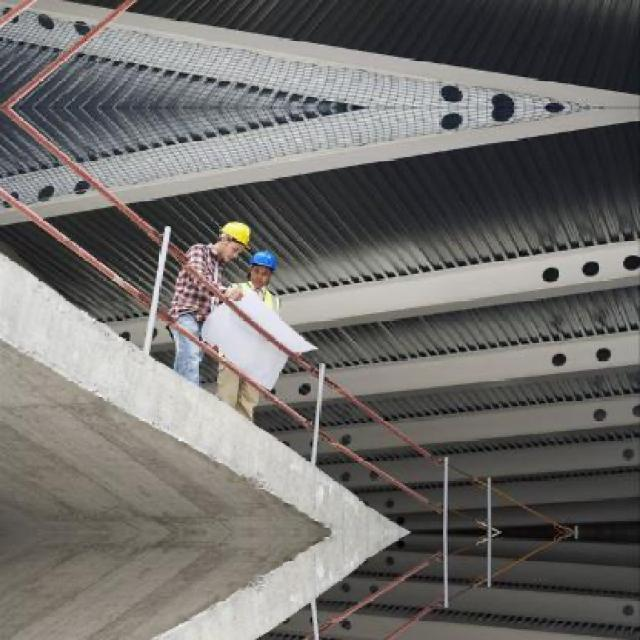helmet: (215, 218, 252, 258), (248, 251, 278, 286)
